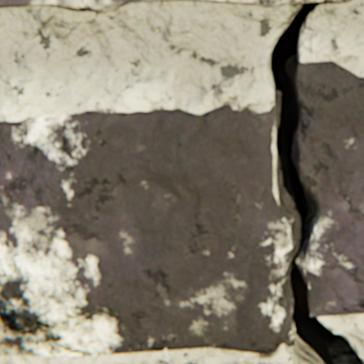brick: (0, 0, 163, 13), (201, 0, 351, 7)
broken_brick: (0, 104, 294, 354), (296, 61, 363, 315)
crack: (267, 2, 363, 363)
